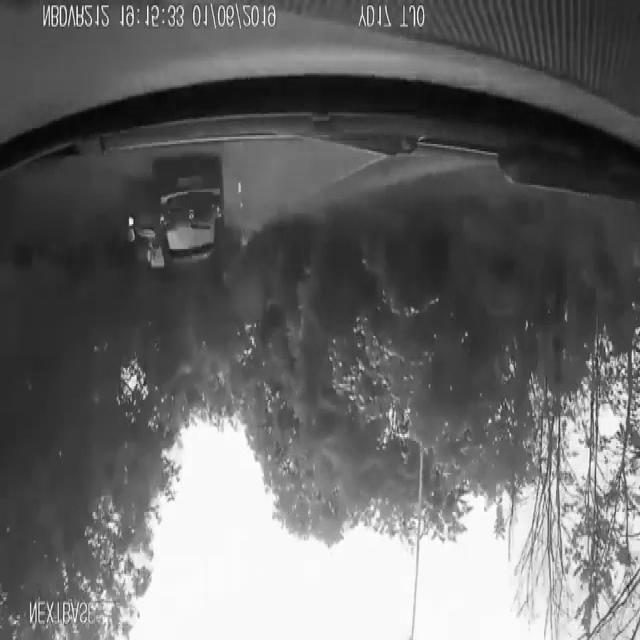moderate: (122, 152, 226, 282)
